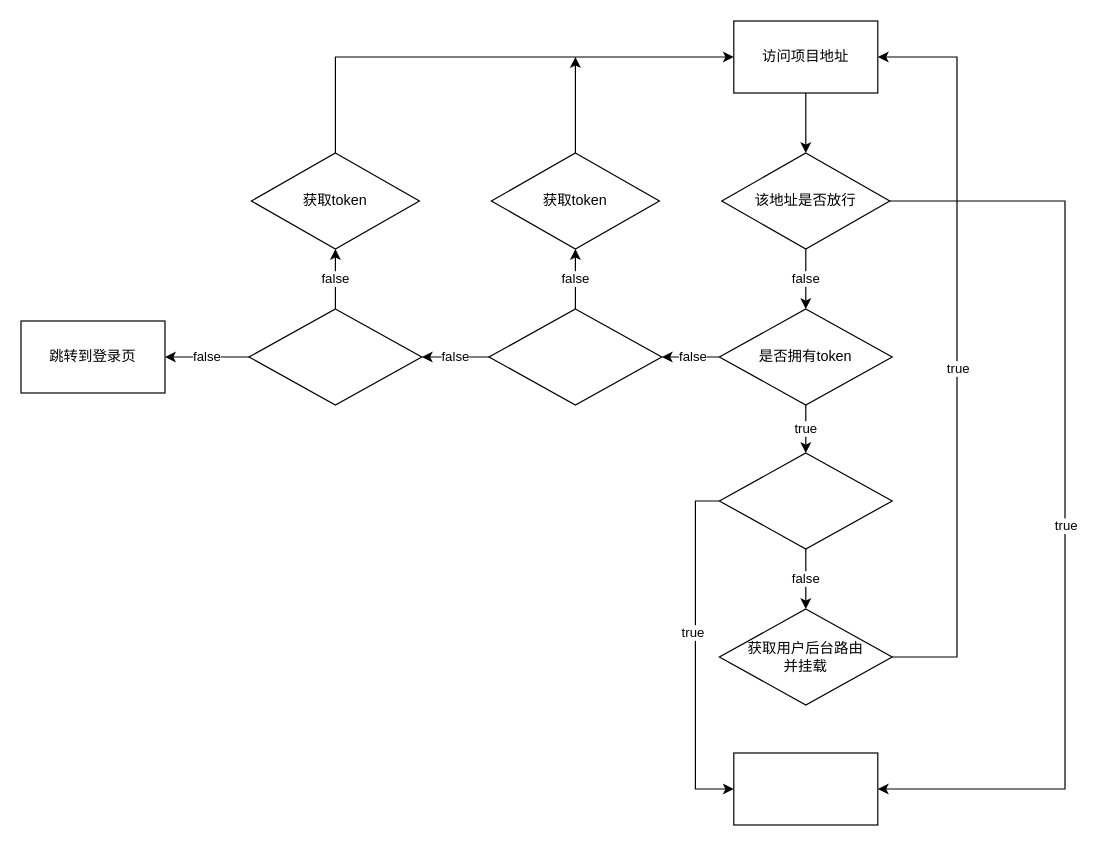
Some shapes in this 1098 by 846 pixel diagram are drawn without their labels. The box of each missing label's shape, as (x1, y1, x2, y2) in pixels:
是否拥有appToken: (248, 308, 422, 405)
是否拥有sid: (488, 308, 662, 405)
是否挂载用户 后台路由: (718, 452, 892, 549)
访问地址: (733, 752, 878, 825)
